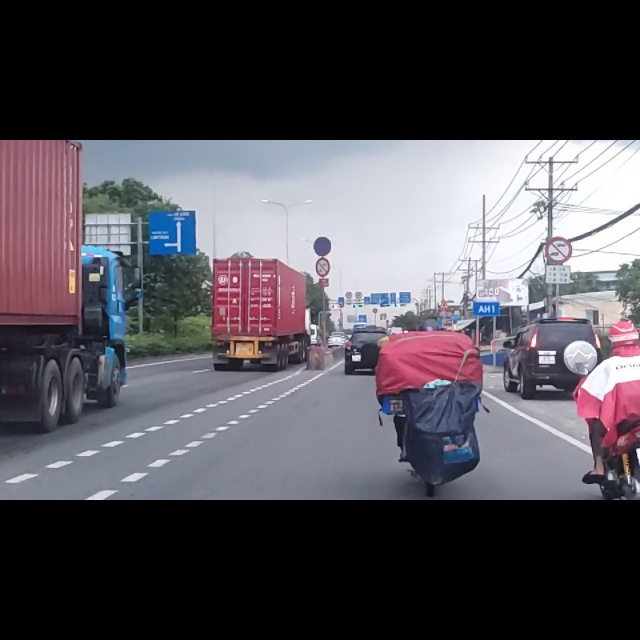bien_nguy_hiem: (313, 172, 332, 205), (314, 208, 332, 242)
